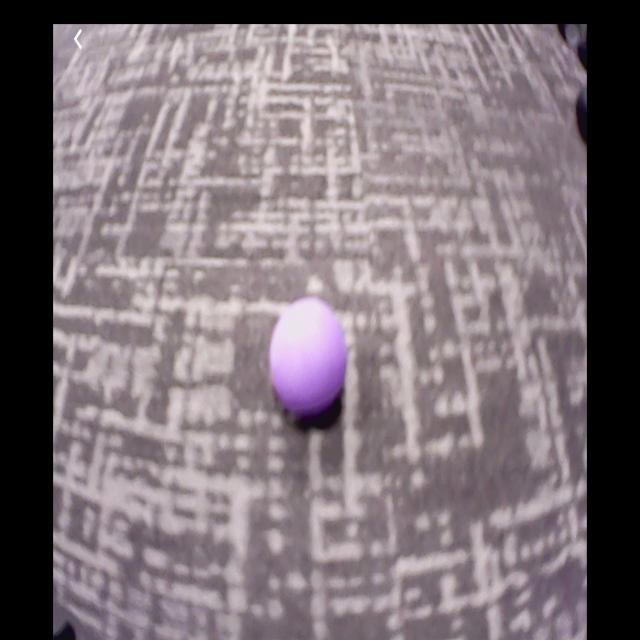ball: (272, 300, 347, 416)
